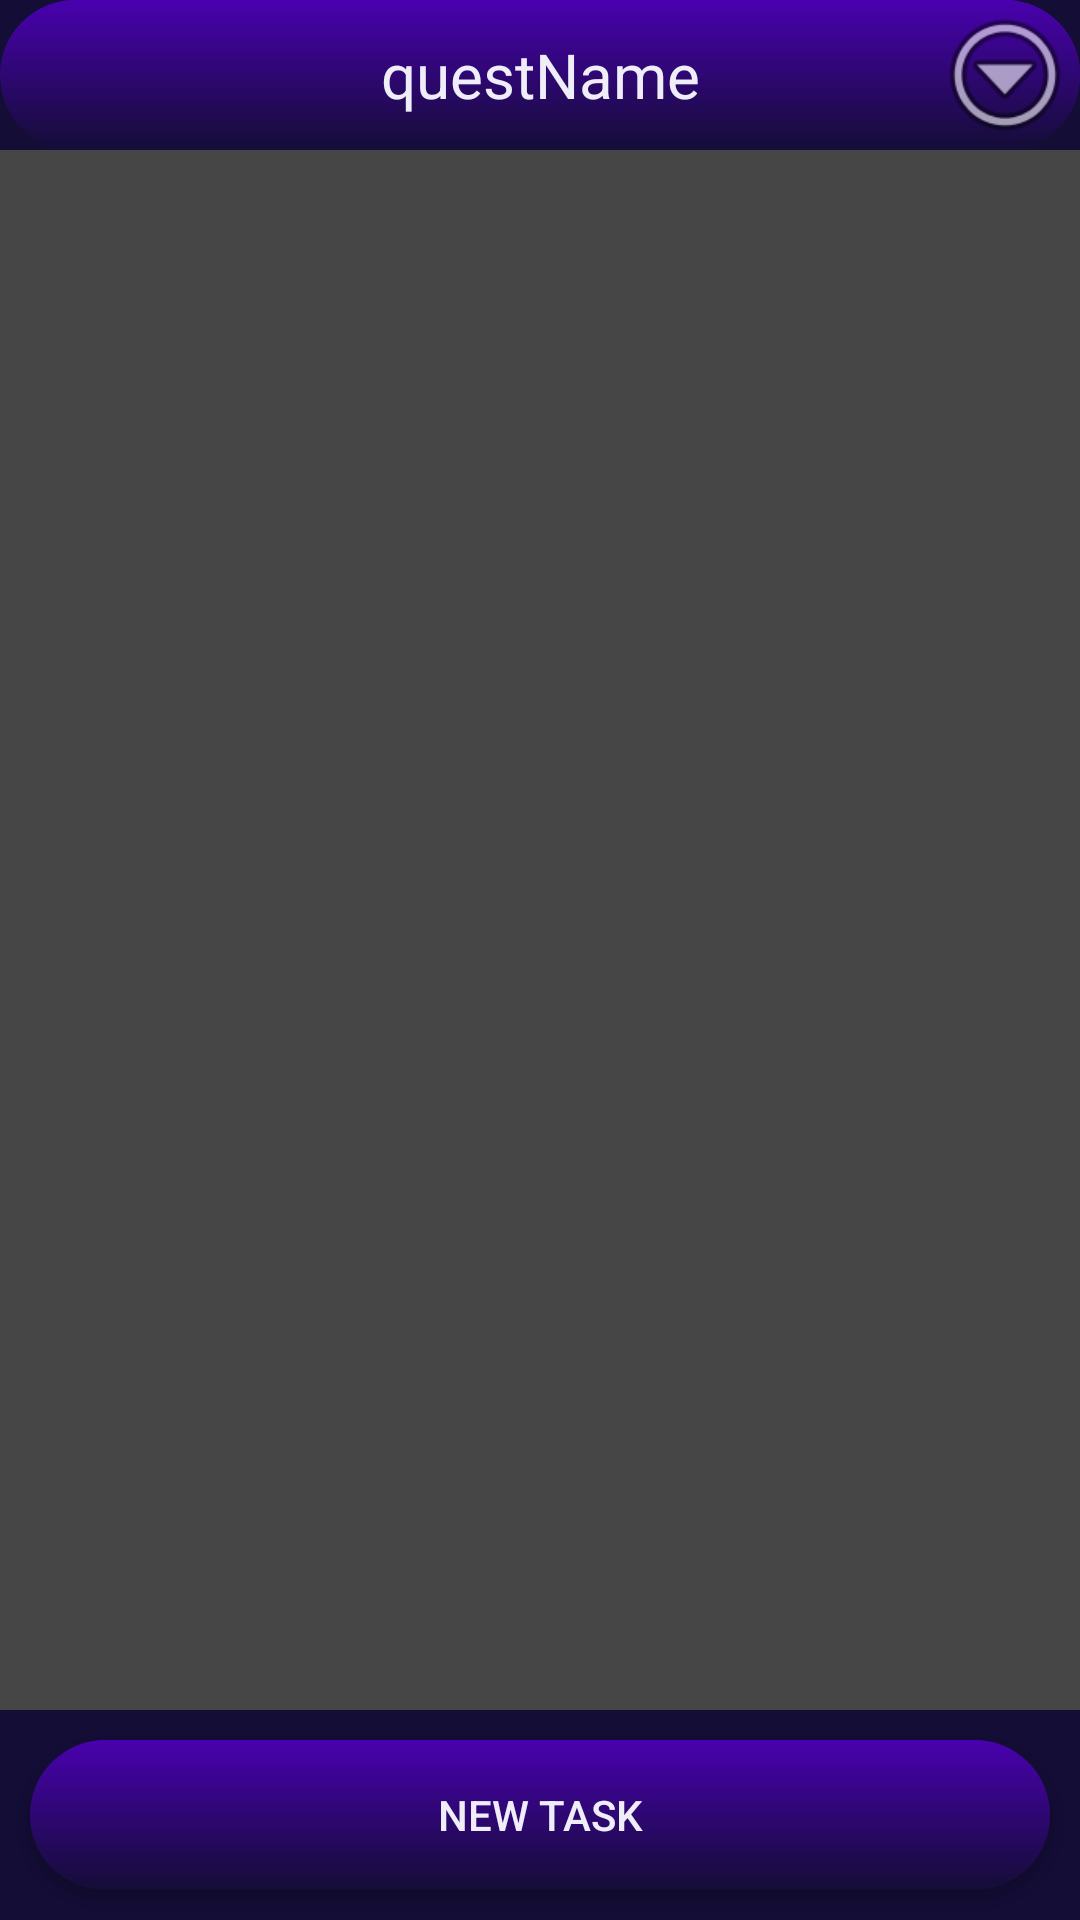

Point at icon controls on the screen. Image size 1080*1920, points as (x=x, y=y).
more: (x=1005, y=75)
